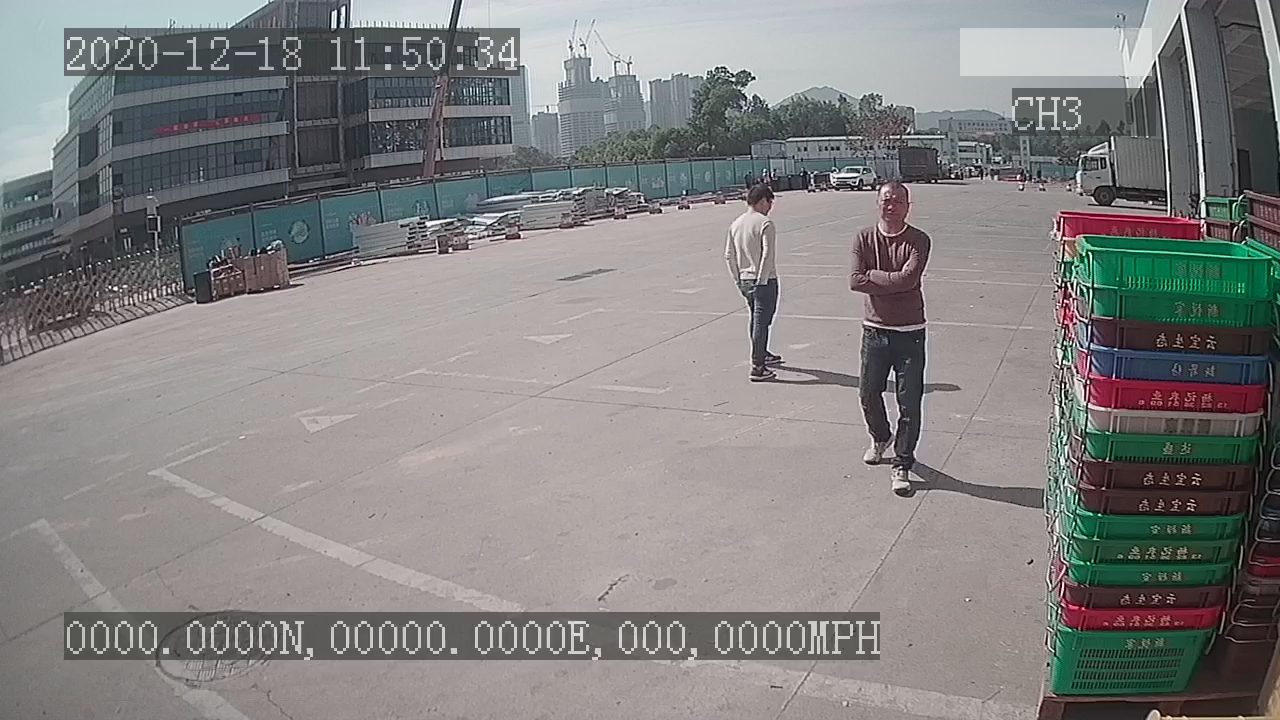person: (842, 177, 938, 504), (715, 183, 792, 390)
